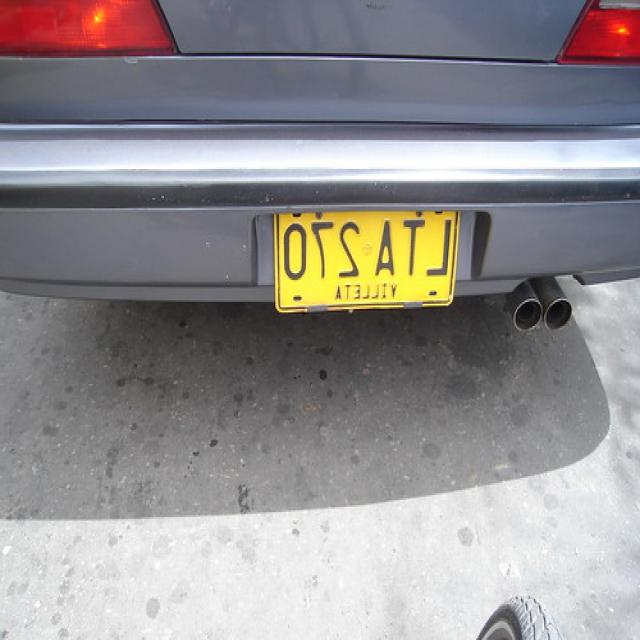placas: (275, 211, 458, 280)
